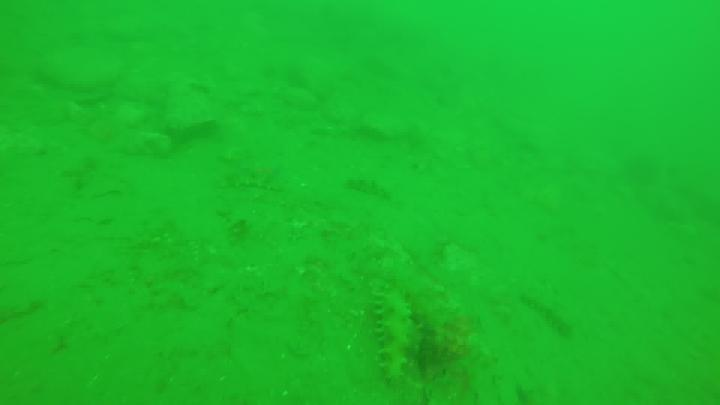holothurian: (371, 289, 418, 389), (521, 291, 575, 334), (345, 175, 391, 199), (217, 178, 283, 194)
